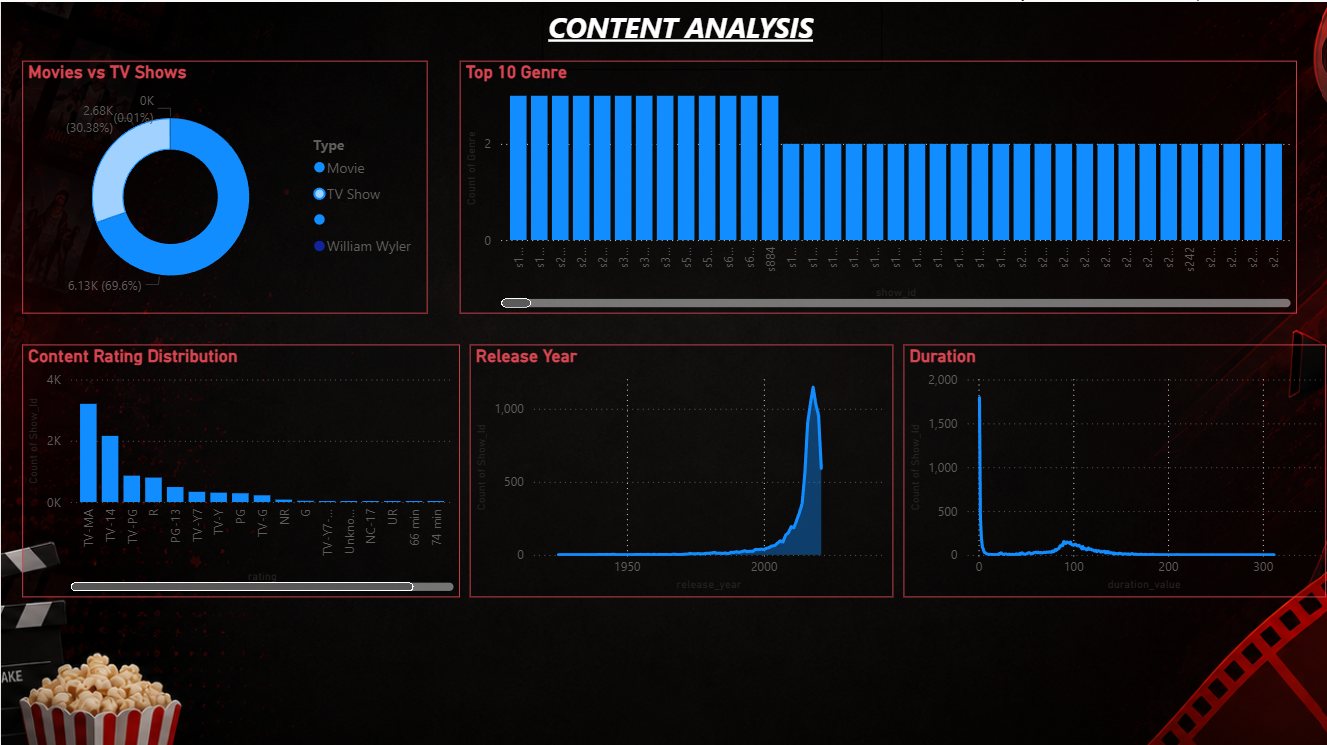

This screenshot's page, from the dashboard's own definition file:
{"tool":"powerbi","page":{"name":"Page 2","canvas":[1280,720],"ordinal":1},"visuals":[{"type":"textbox","box":[522.8,0,328,65.9],"z":0},{"type":"donutChart","title":"Movies vs TV Shows","fields":{"Category":["netflix_titles.type"],"Y":["CountNonNull(netflix_titles.show_id)"]},"box":[20.6,56.3,391.1,244.3],"z":1000},{"type":"columnChart","title":"Top 10 Genre","fields":{"Category":["Genre.show_id"],"Y":["CountNonNull(Genre.Genre)"]},"box":[443.2,56.3,808.2,244.3],"z":2000},{"type":"clusteredColumnChart","title":"Content Rating Distribution","fields":{"Category":["netflix_titles.rating"],"Y":["CountNonNull(netflix_titles.Show_Id)"]},"box":[20.6,330.7,422.6,244.3],"z":3000},{"type":"areaChart","title":"Release Year","fields":{"Category":["netflix_titles.release_year"],"Y":["CountNonNull(netflix_titles.Show_Id)"]},"box":[452.8,330.7,408.9,244.3],"z":4000},{"type":"lineChart","title":"Duration","fields":{"Category":["netflix_titles.duration_value"],"Y":["CountNonNull(netflix_titles.Show_Id)"]},"box":[871.4,330.7,408.9,244.3],"z":5000}]}

Visuals, with their boxes in screenshot pixels (x1, y1, x2, y2), scaled from the page's 1280x720 canvas onto the 1327x745 screenshot:
textbox: pyautogui.locateOnScreen(542, 0, 882, 68)
"Movies vs TV Shows" donutChart: pyautogui.locateOnScreen(21, 58, 427, 311)
"Top 10 Genre" columnChart: pyautogui.locateOnScreen(459, 58, 1297, 311)
"Content Rating Distribution" clusteredColumnChart: pyautogui.locateOnScreen(21, 342, 459, 595)
"Release Year" areaChart: pyautogui.locateOnScreen(469, 342, 893, 595)
"Duration" lineChart: pyautogui.locateOnScreen(903, 342, 1326, 595)
